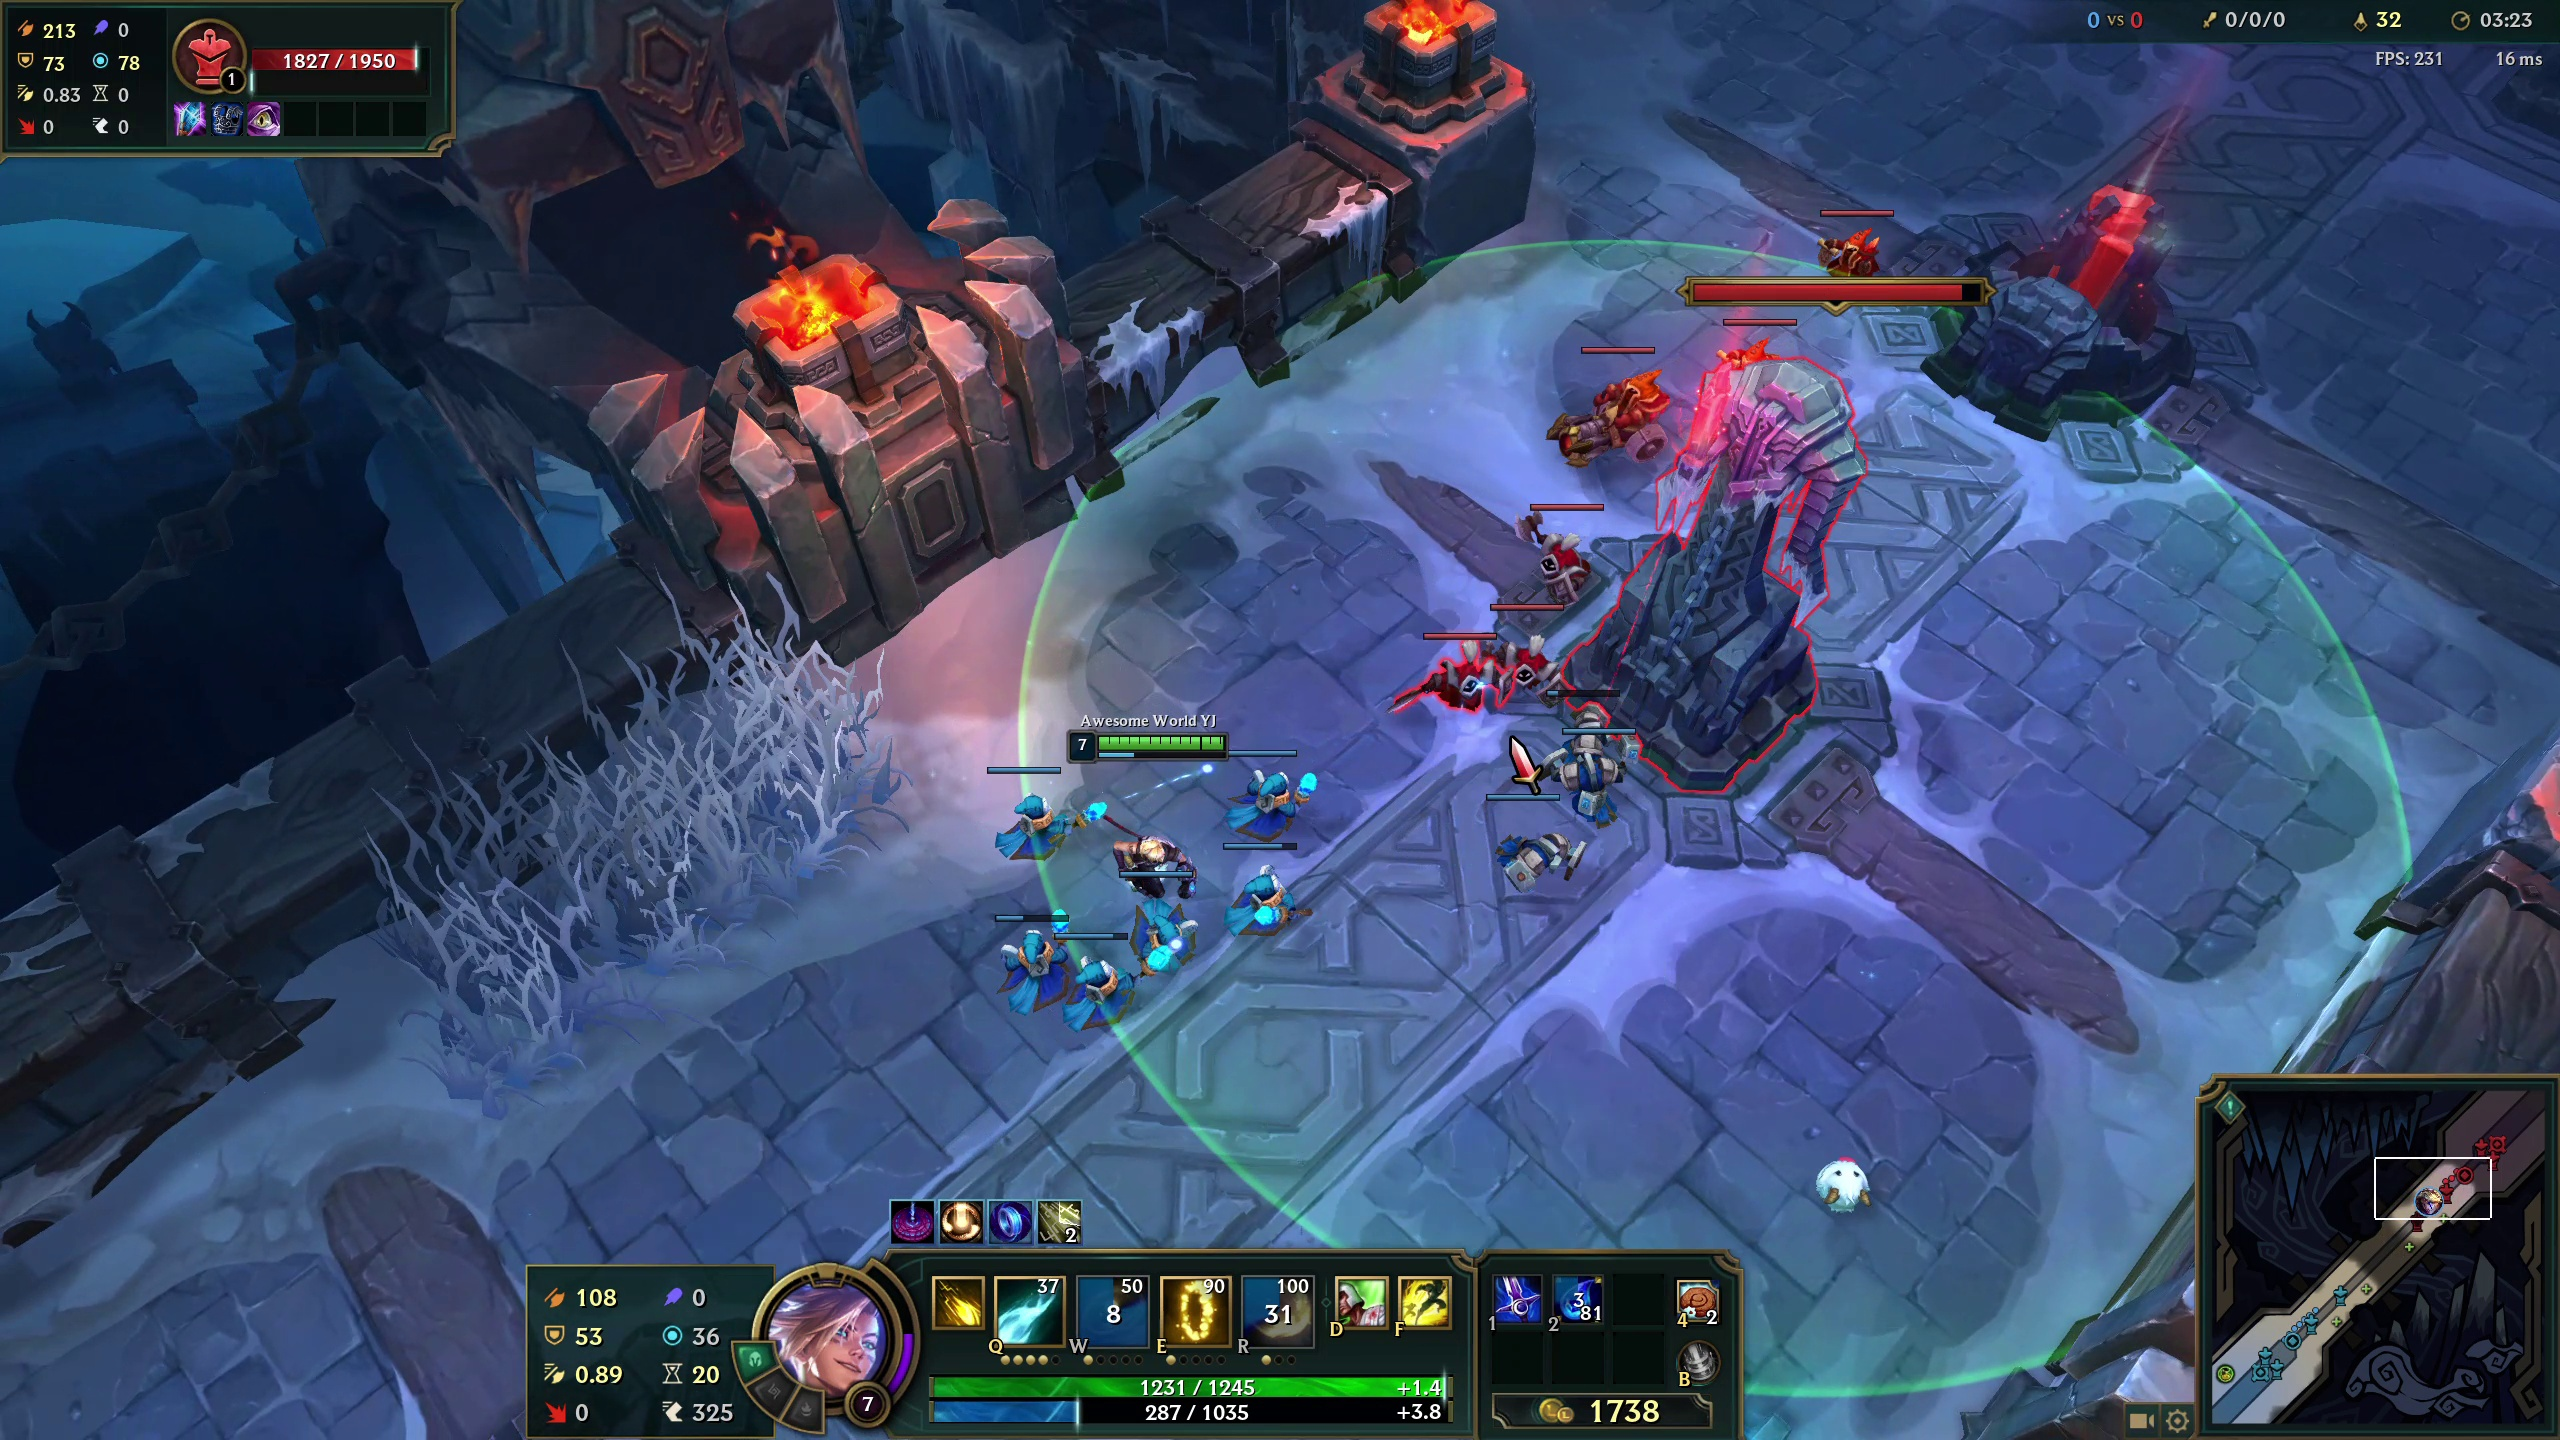EZ: (1090, 665, 1199, 900)
EnemyMinion: (1811, 186, 1902, 278), (1523, 501, 1614, 593), (1414, 622, 1505, 714), (1472, 596, 1563, 687)
EnemySuperMinnion: (1553, 329, 1670, 468)
Glass: (464, 707, 818, 951)
Inhibitor: (1957, 225, 2191, 417)
MyMinion: (979, 768, 1065, 860), (1213, 745, 1299, 837), (1222, 835, 1306, 928), (1486, 788, 1570, 879), (1120, 872, 1204, 964), (1057, 918, 1141, 1009), (976, 913, 1060, 1004)
Turret: (1605, 355, 1894, 774)
